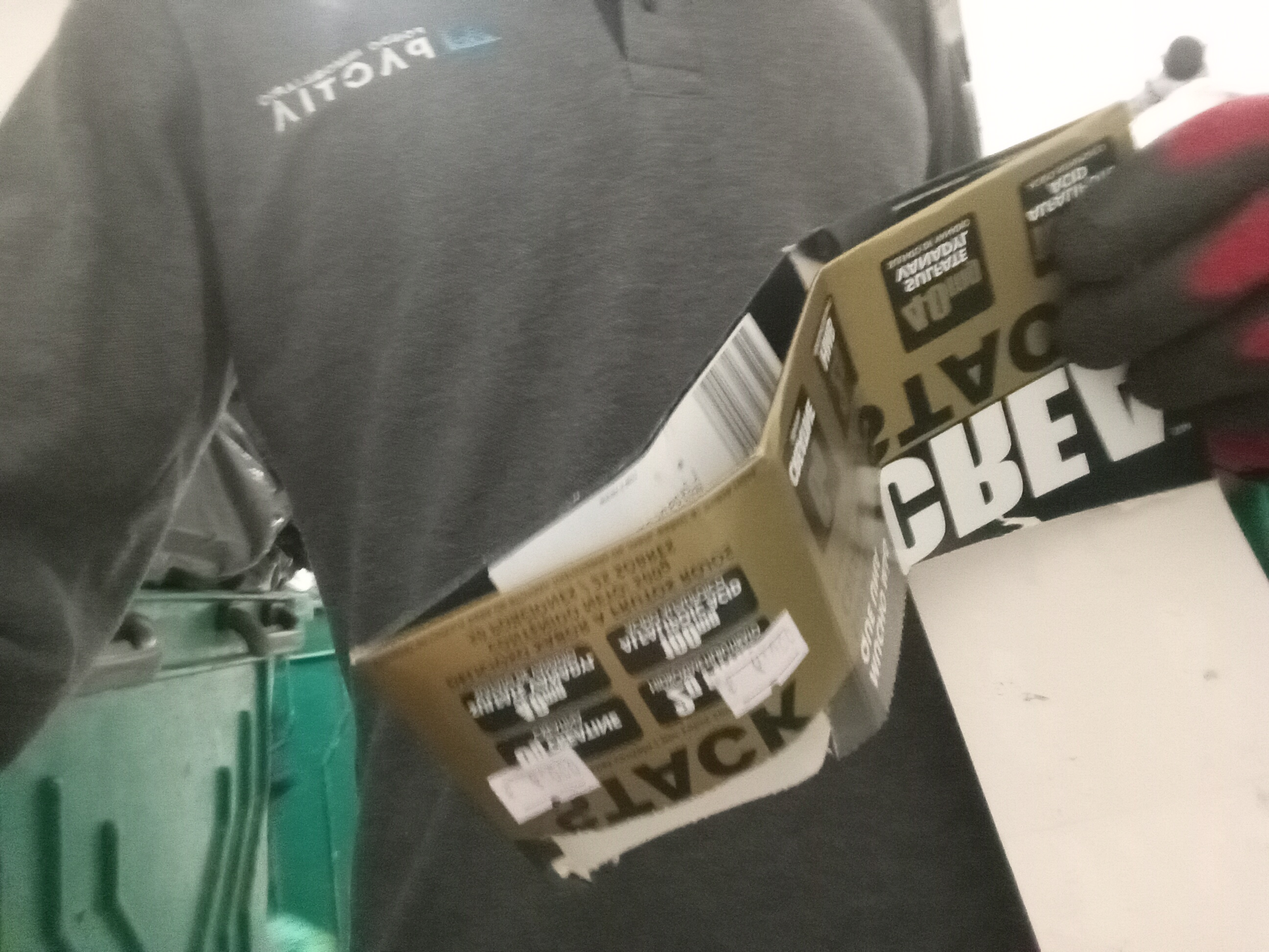Carton: (349, 102, 1269, 900)
